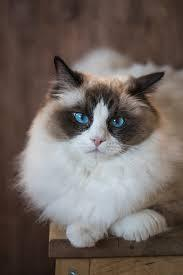ragdoll: (43, 52, 169, 175)
